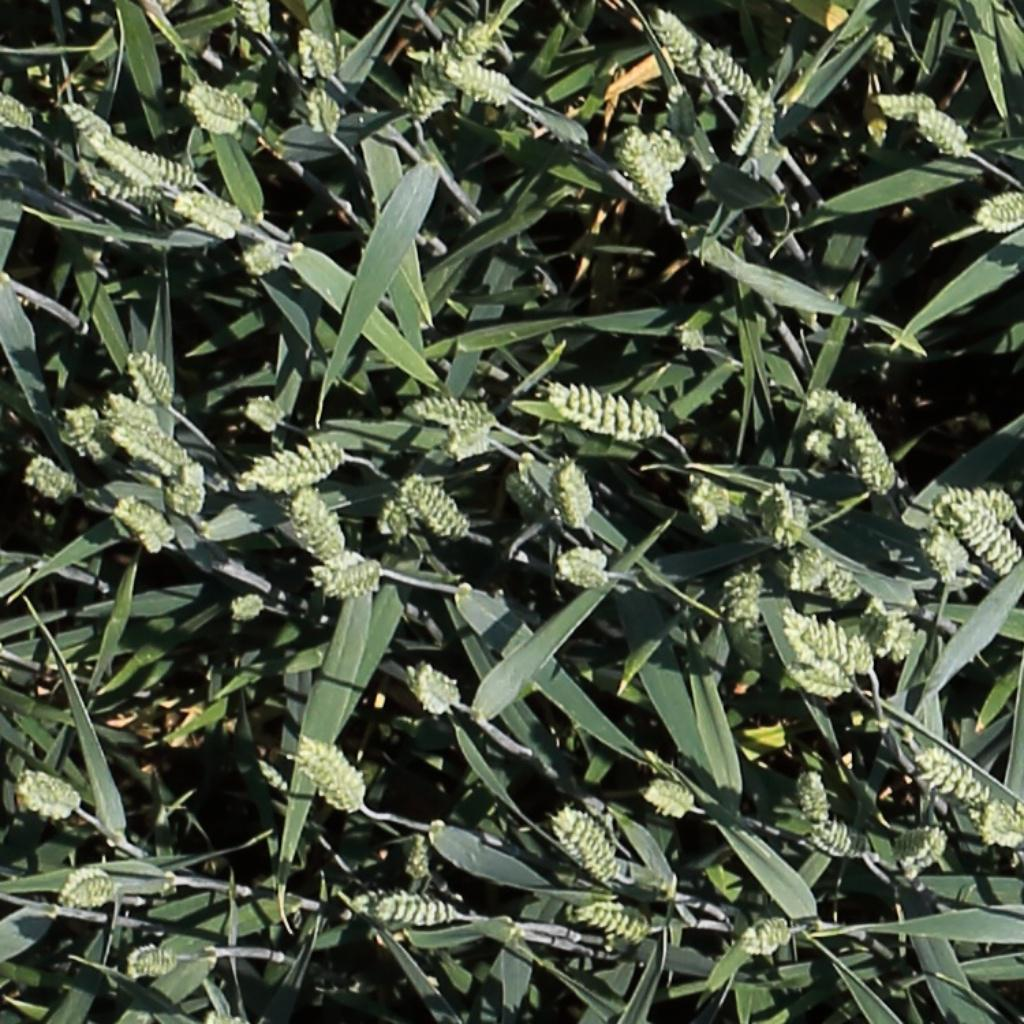0-0: (820, 378, 917, 493), (398, 9, 495, 122), (935, 499, 1019, 576), (548, 385, 662, 435), (554, 808, 621, 886), (294, 740, 363, 813), (917, 749, 995, 812), (292, 481, 346, 572), (603, 137, 656, 222), (651, 4, 709, 81), (57, 402, 126, 466), (786, 610, 857, 671), (417, 482, 484, 546), (288, 25, 366, 74), (701, 40, 761, 103), (795, 423, 869, 473), (74, 171, 160, 213), (800, 546, 862, 604), (105, 137, 172, 190), (110, 425, 188, 469), (935, 473, 1017, 514), (124, 345, 174, 412), (765, 473, 805, 554), (364, 888, 460, 921), (557, 450, 595, 533), (916, 528, 965, 591), (730, 86, 771, 161), (257, 761, 309, 820), (410, 663, 462, 718), (55, 865, 124, 906), (378, 479, 422, 543), (125, 147, 209, 180), (113, 498, 173, 544), (174, 192, 241, 232), (899, 828, 953, 877), (103, 391, 162, 435), (442, 410, 490, 464), (800, 765, 834, 841), (724, 566, 765, 628), (577, 905, 651, 939), (450, 62, 518, 99), (916, 106, 970, 152), (311, 542, 389, 572), (309, 565, 382, 596), (686, 481, 724, 540), (21, 774, 81, 811), (645, 130, 688, 181), (308, 77, 341, 141), (812, 827, 872, 861), (191, 83, 249, 118), (408, 401, 495, 424), (886, 606, 917, 670), (63, 99, 108, 143), (745, 915, 797, 953), (787, 667, 854, 696), (555, 558, 613, 591), (27, 456, 75, 495), (177, 454, 204, 522), (872, 600, 902, 660), (172, 464, 241, 490), (847, 630, 880, 681), (0, 83, 35, 131), (405, 828, 432, 890), (645, 785, 699, 816), (506, 469, 543, 514), (126, 944, 183, 973), (983, 802, 1022, 843), (241, 0, 273, 43), (871, 27, 901, 72), (243, 240, 281, 274), (243, 400, 286, 430), (792, 555, 823, 596), (976, 199, 1024, 222), (880, 94, 942, 111), (679, 317, 702, 360), (228, 595, 267, 619)
